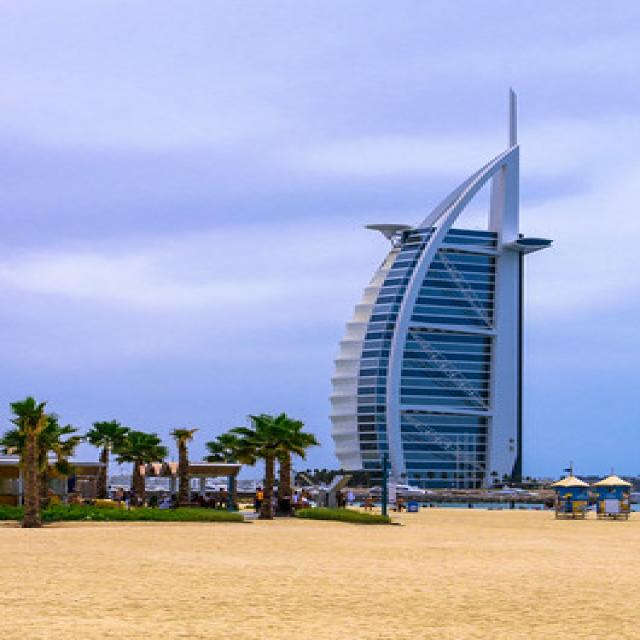building: (320, 140, 537, 495)
